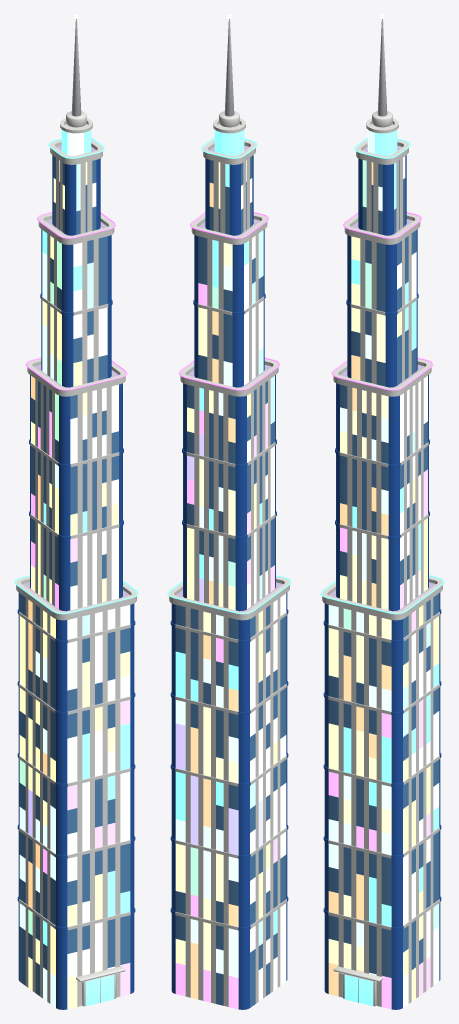
Rendered from arranha_ceu_art_deco_neon.glb.
3 renders of one model, left to right at view 1: azimuth 30°, elevation 25°; view 2: azimuth 150°, elevation 25°; view 3: azimuth 330°, elevation 25°, orthographic.
Parts seen in each view (by area): view 1: arranha_ceu_art_deco_neon; view 2: arranha_ceu_art_deco_neon; view 3: arranha_ceu_art_deco_neon.
Boxes of the visible parts, left/top/right/bottom form: arranha_ceu_art_deco_neon: left=14, top=14, right=138, bottom=1009; arranha_ceu_art_deco_neon: left=167, top=14, right=291, bottom=1009; arranha_ceu_art_deco_neon: left=320, top=14, right=444, bottom=1009.
Bounding box in the file's own units: 11.8 × 130 × 12.3.
Materials: 12 (1 with a texture image).
